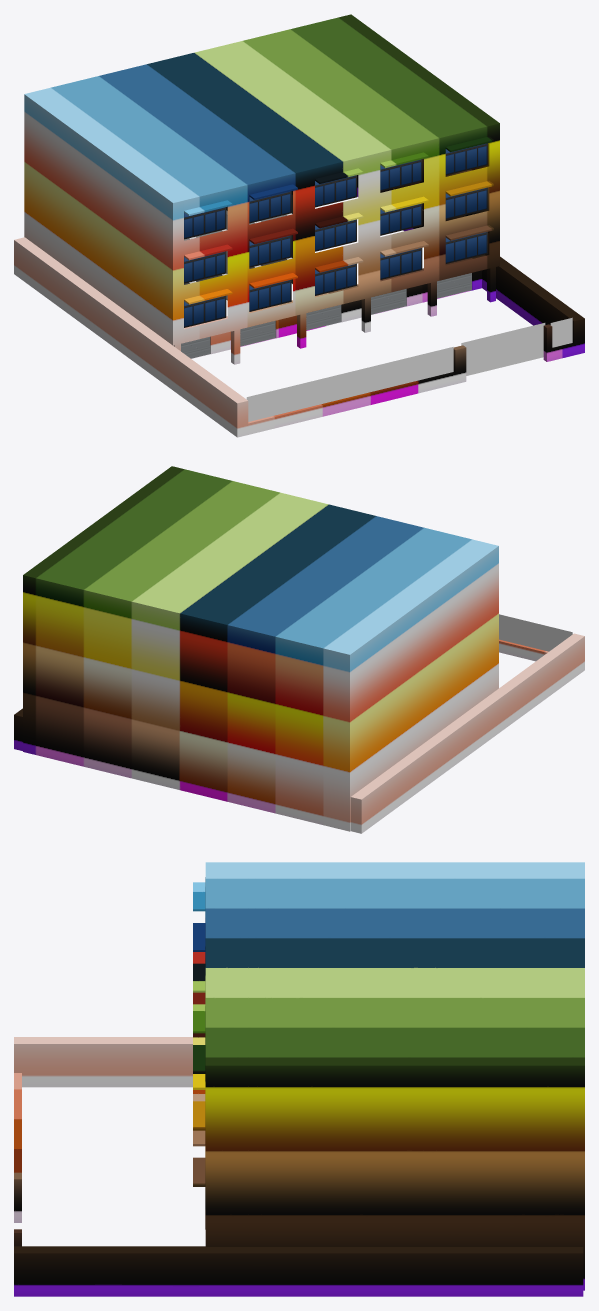
Rendered from RukoTest2.fbx.
The picture shows the model from 3 angles, top to bottom: view 1: azimuth 30°, elevation 25°; view 2: azimuth 150°, elevation 25°; view 3: azimuth 270°, elevation 25°; orthographic projection. The views are drawn at different scales.
Visible parts, largest first — view 1: Bangunan, Pagar2, Pagar3, Pagar1; view 2: Bangunan, Pagar2; view 3: Bangunan.
Part boxes in pixels (bbox=[...]): Bangunan: bbox=[14, 14, 584, 437]; Pagar2: bbox=[246, 347, 453, 421]; Pagar3: bbox=[461, 323, 545, 375]; Pagar1: bbox=[550, 317, 572, 347]; Bangunan: bbox=[14, 466, 584, 833]; Pagar2: bbox=[499, 614, 572, 651]; Bangunan: bbox=[14, 862, 584, 1296].
Size of the model in its own units: 6378 by 3114 by 7122.
